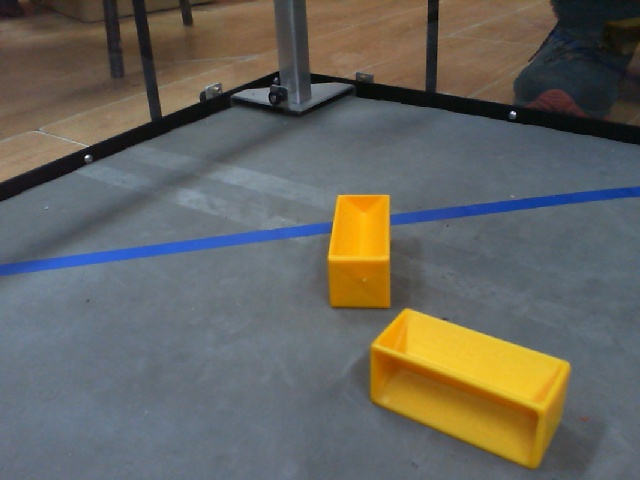YellowSample: (363, 309, 579, 475), (320, 187, 395, 316)
